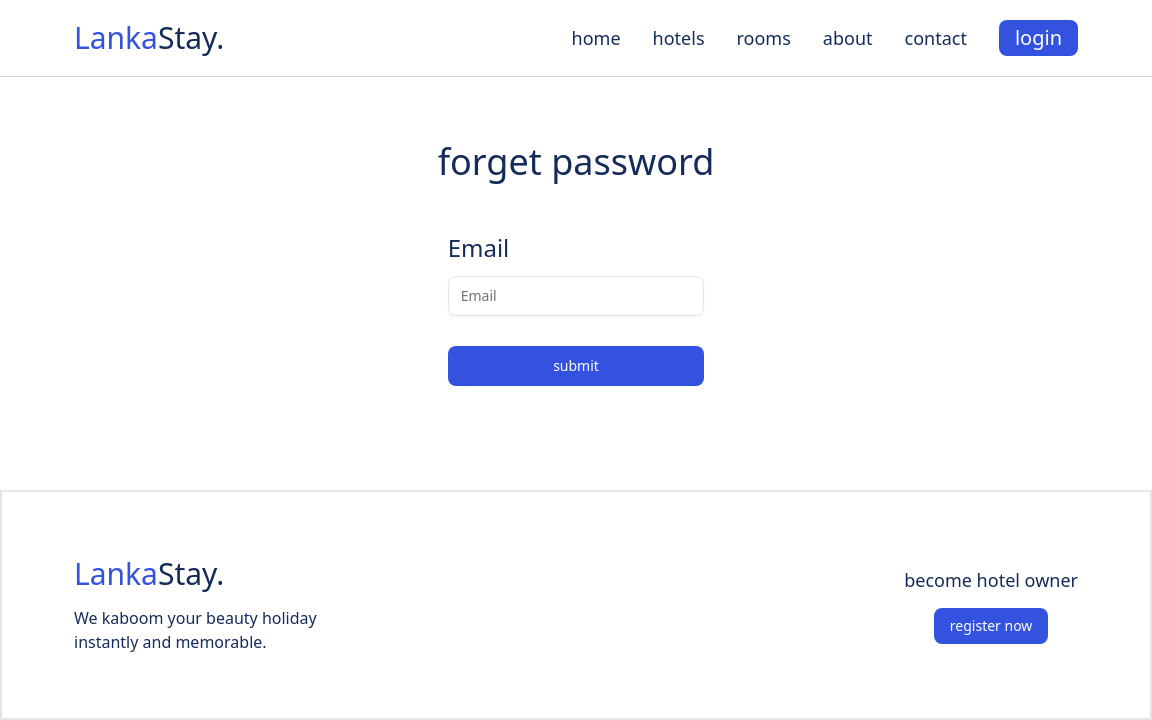
it: forgetPassword page › should show an error for invalid email
The image size is (1152, 720).
Type "invalid-email" into the field labelled "email" at (576, 296), box x1=448 y1=276 x2=704 y2=316
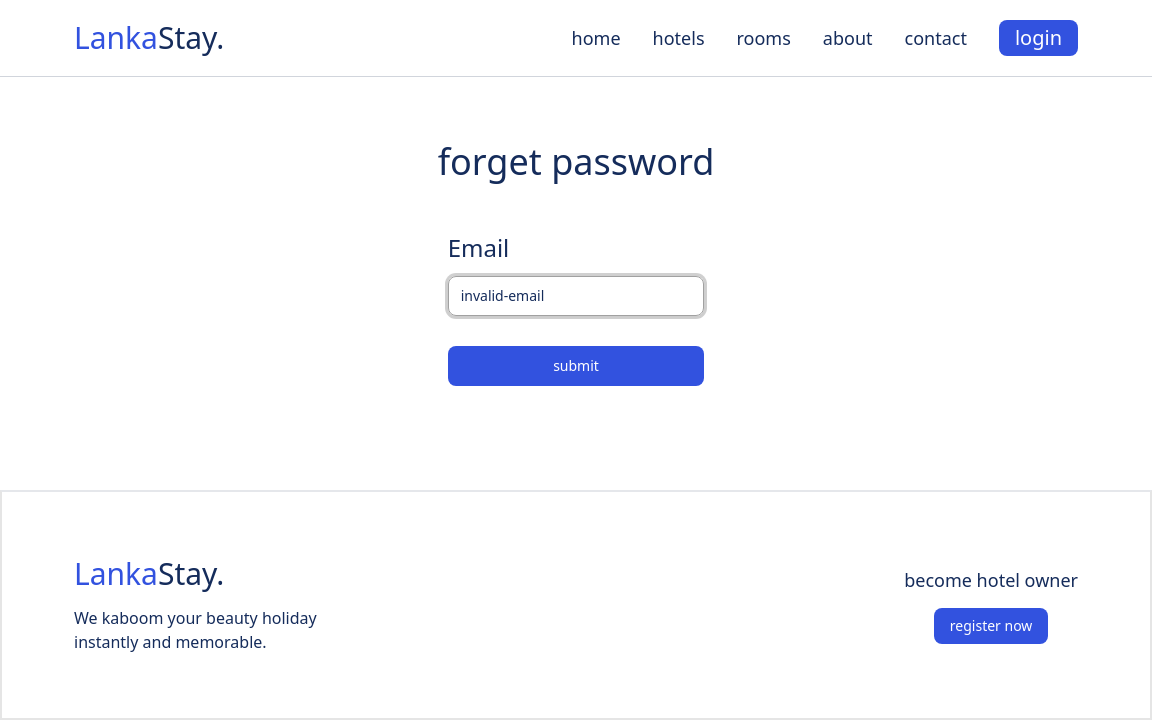
Click the button "submit" at (576, 366), box x1=448 y1=346 x2=704 y2=386
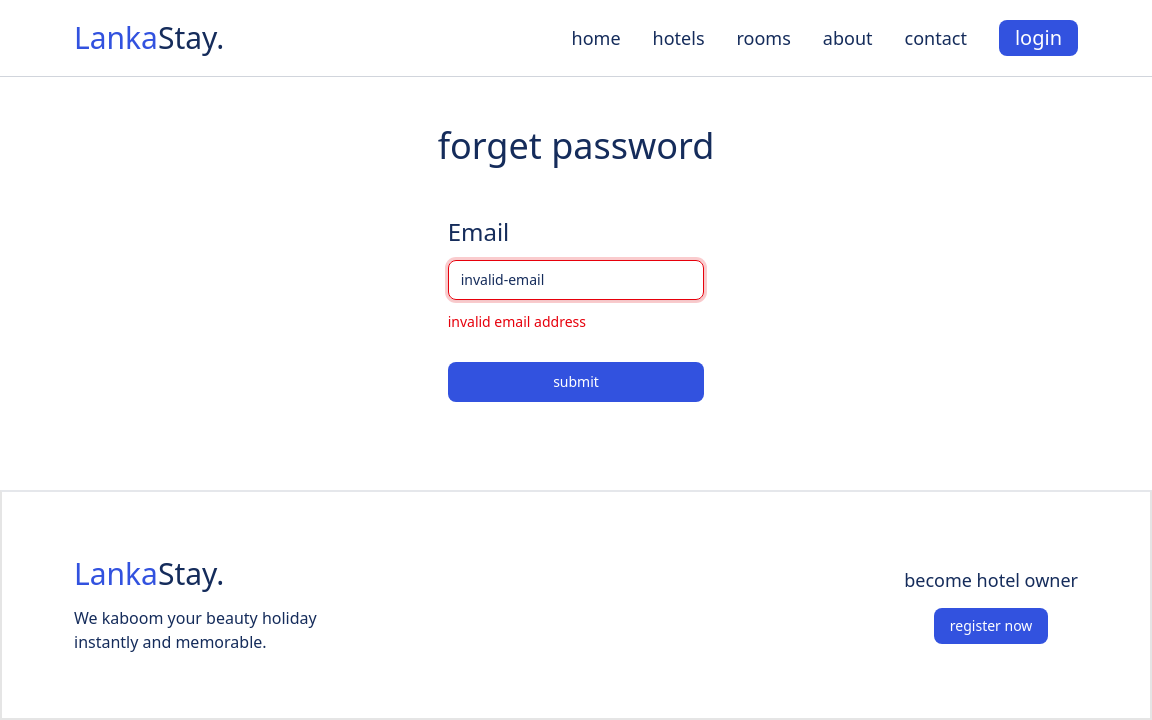
Expected: the text "invalid email address" is shown, x1=448 y1=312 x2=586 y2=330
